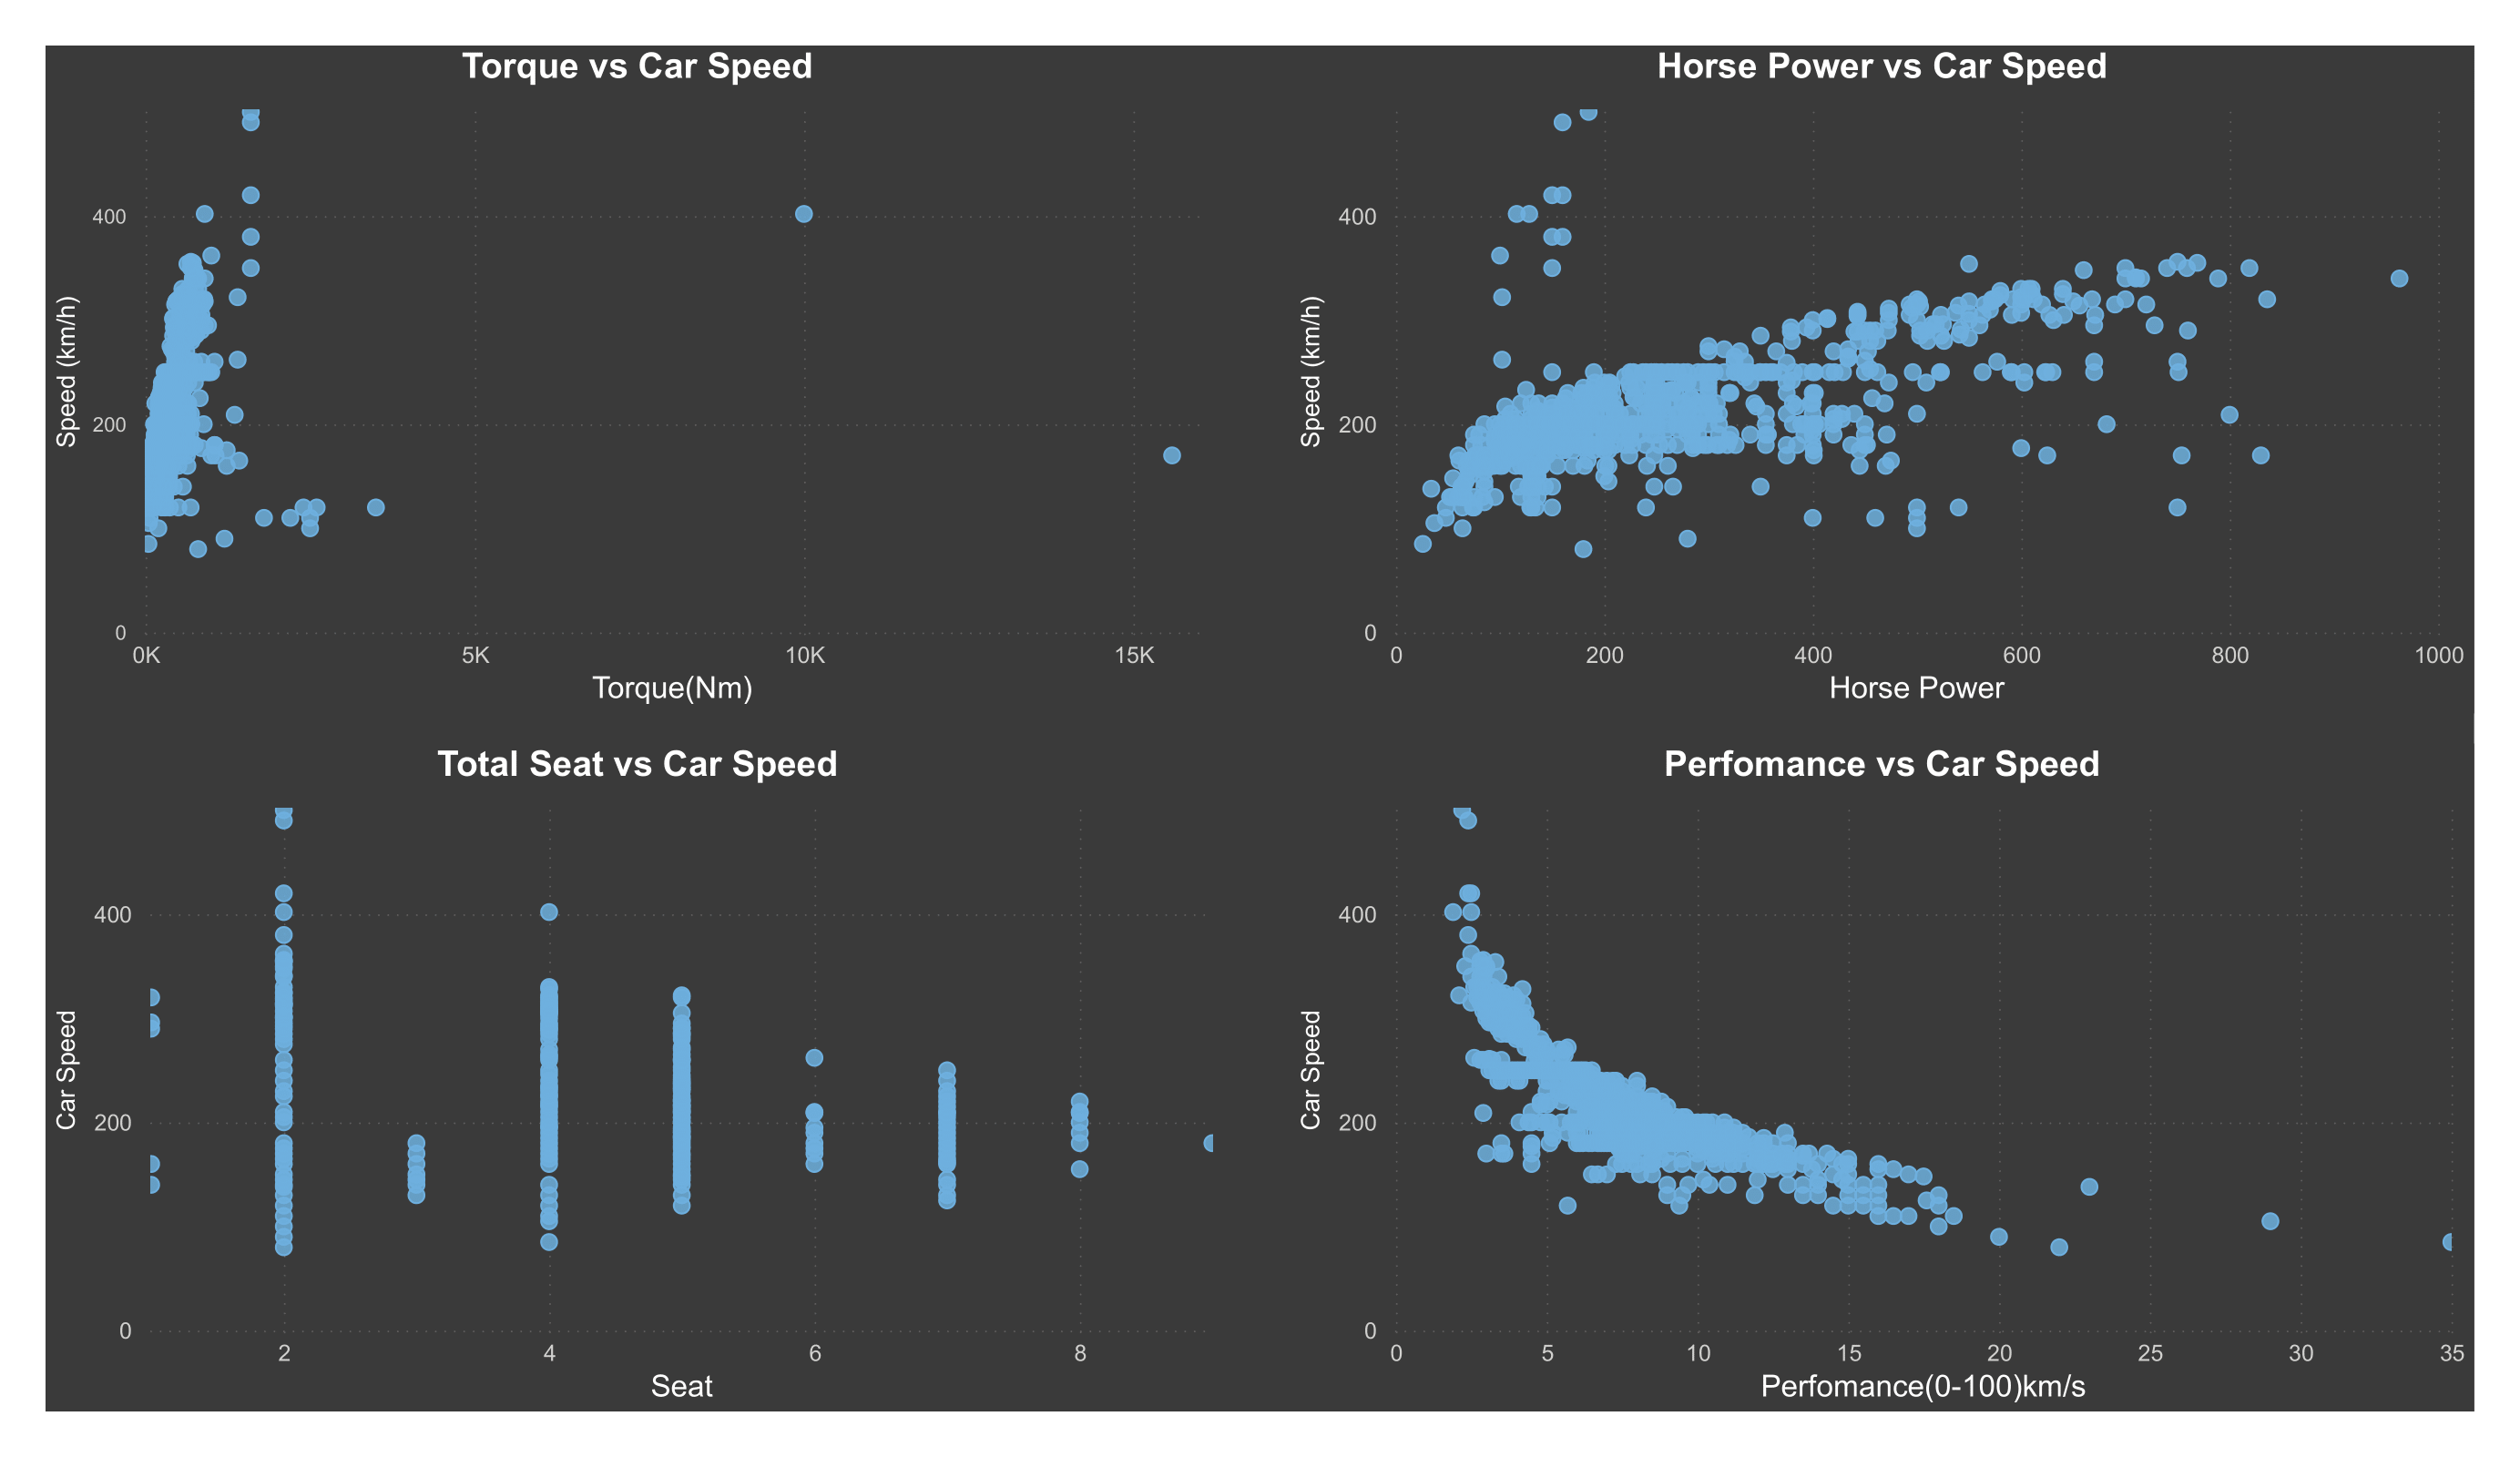

What the dashboard file says about the page in this screenshot:
{"tool":"powerbi","page":{"name":"Page 3","canvas":[1280,720],"ordinal":1},"visuals":[{"type":"scatterChart","title":"Perfomance vs Car Speed","fields":{"X":["Cars Datasets 2025.Perfomance(0-100)KM/s"],"Y":["Cars Datasets 2025.Speed(KM/h)"]},"box":[656,368,624,352],"z":0},{"type":"scatterChart","title":"Total Seat vs Car Speed","fields":{"Y":["Cars Datasets 2025.Speed(KM/h)"],"X":["Cars Datasets 2025.Seat"]},"box":[0,368,624,352],"z":1000},{"type":"scatterChart","title":"Torque vs Car Speed","fields":{"X":["Cars Datasets 2025.Torque(Nm)"],"Y":["Cars Datasets 2025.Speed(KM/h)"]},"box":[0,0,624,352],"z":2000},{"type":"scatterChart","title":"Horse Power vs Car Speed","fields":{"X":["Cars Datasets 2025.Horse Power"],"Y":["Cars Datasets 2025.Speed(KM/h)"]},"box":[656,0,624,352],"z":3000}]}

Visuals, with their boxes in screenshot pixels (x1, y1, x2, y2):
"Perfomance vs Car Speed" scatterChart: region(1291, 744, 2474, 1411)
"Total Seat vs Car Speed" scatterChart: region(46, 744, 1229, 1411)
"Torque vs Car Speed" scatterChart: region(46, 46, 1229, 713)
"Horse Power vs Car Speed" scatterChart: region(1291, 46, 2474, 713)
